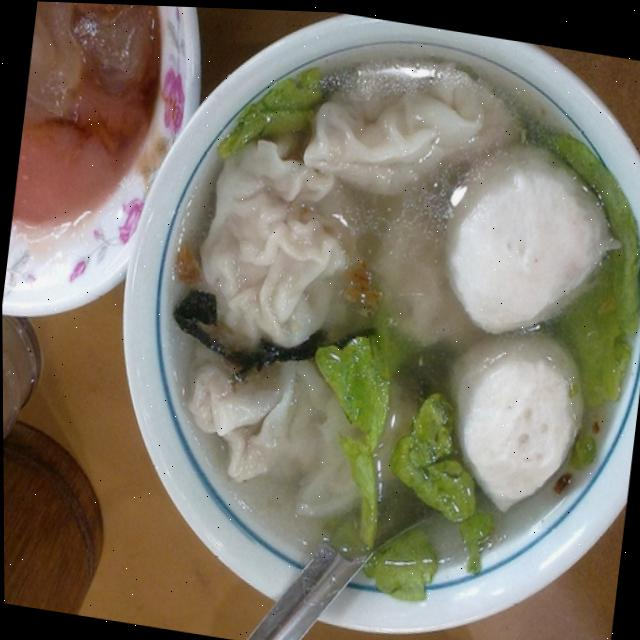熟制海鲜: (83, 2, 640, 640)
